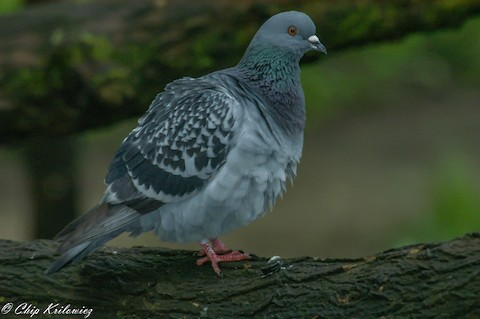pigeon: (32, 7, 333, 286)
